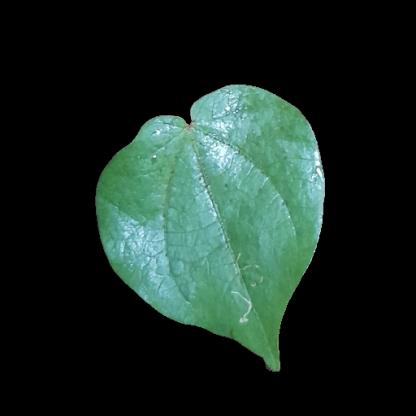healthy: (135, 150, 307, 271), (174, 274, 275, 326), (203, 97, 295, 154)
